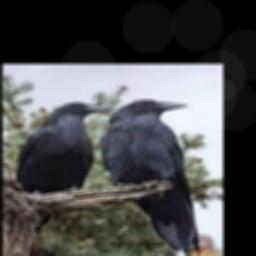Crow: (99, 100, 201, 255), (15, 102, 115, 196)
